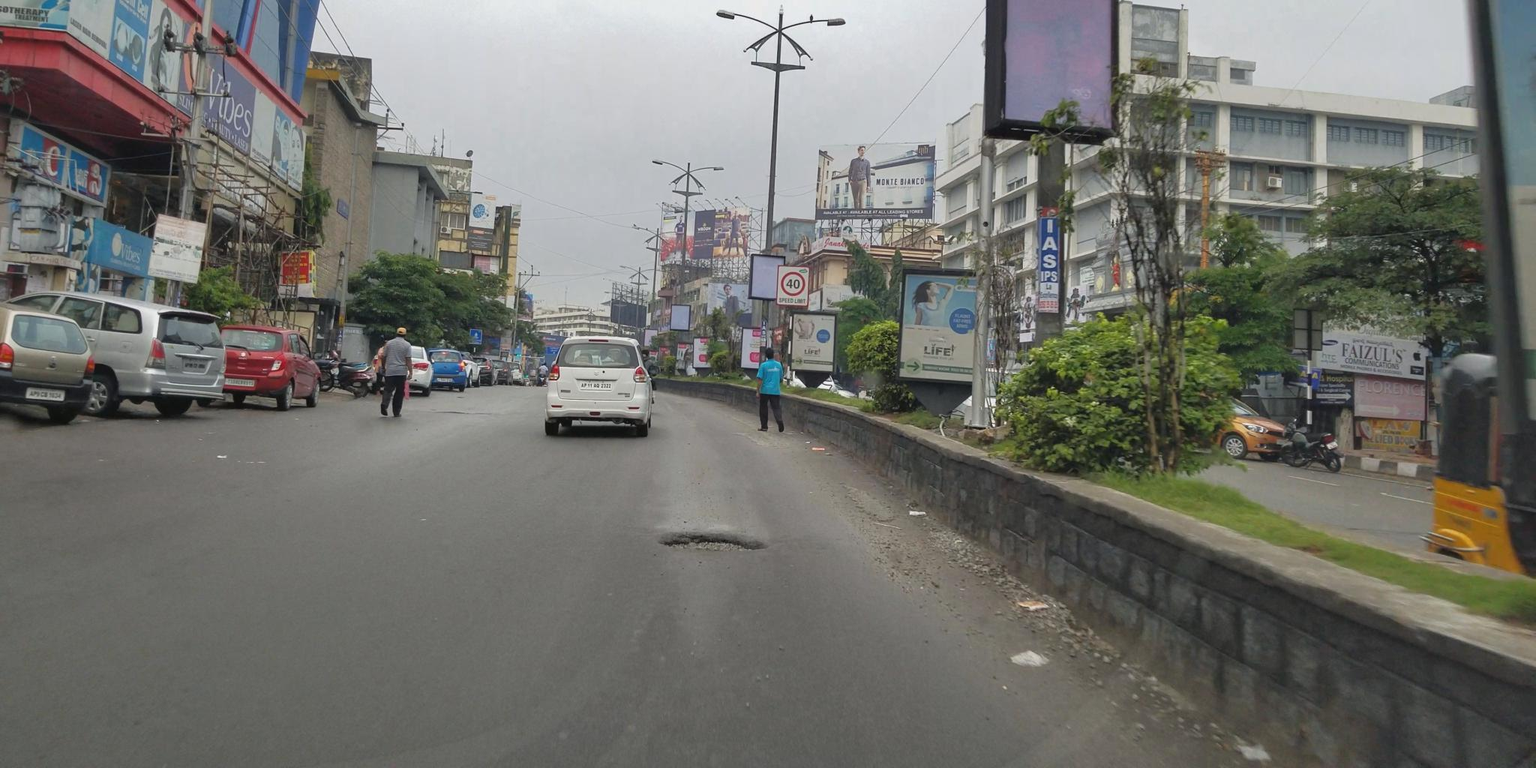streetlight: (785, 2, 860, 51), (704, 1, 778, 49), (629, 154, 688, 183), (688, 156, 746, 184), (617, 214, 652, 242), (654, 211, 688, 239), (612, 255, 636, 280), (636, 254, 660, 279)
